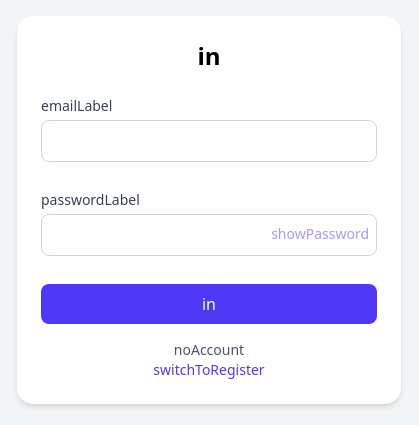
Test: LoginPage › показывает ошибку если email пустой или некорректный
Type "invalidemail" into the field labelled "emailLabel". click: point(209, 141)
box: x1=41 y1=120 x2=377 y2=162
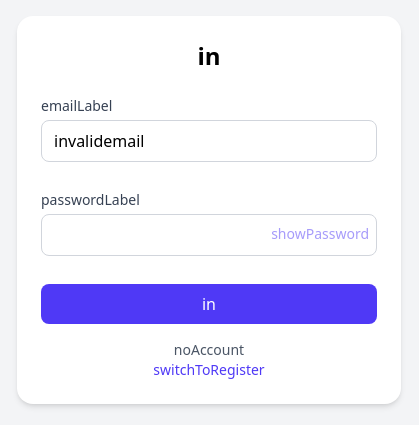
Type "Password1!" into the password field labelled "passwordLabel". click: point(209, 235)
box: x1=41 y1=214 x2=377 y2=256
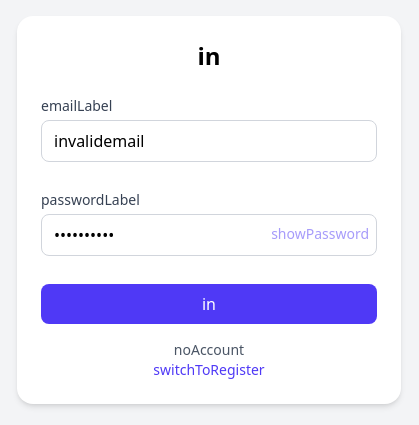
Click the button "in". click: point(209, 304)
box: x1=41 y1=284 x2=377 y2=324
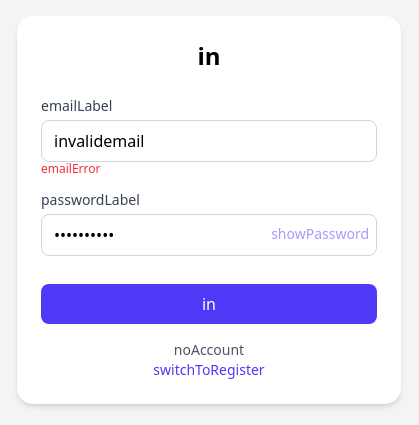
Result: the text "emailError" is shown at x1=41 y1=160 x2=100 y2=178
